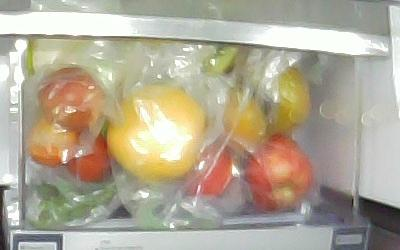apple_vinyl: (245, 134, 312, 215), (182, 143, 232, 197)
grapefruit_vinyl: (107, 85, 207, 180)
persimmon_vinyl: (251, 67, 310, 133), (223, 86, 267, 146)
prune_vinyl: (38, 65, 100, 132), (62, 133, 111, 184), (27, 117, 74, 169)
